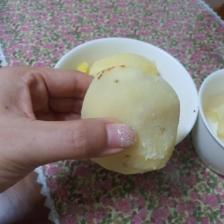Potato: (77, 64, 180, 176)
